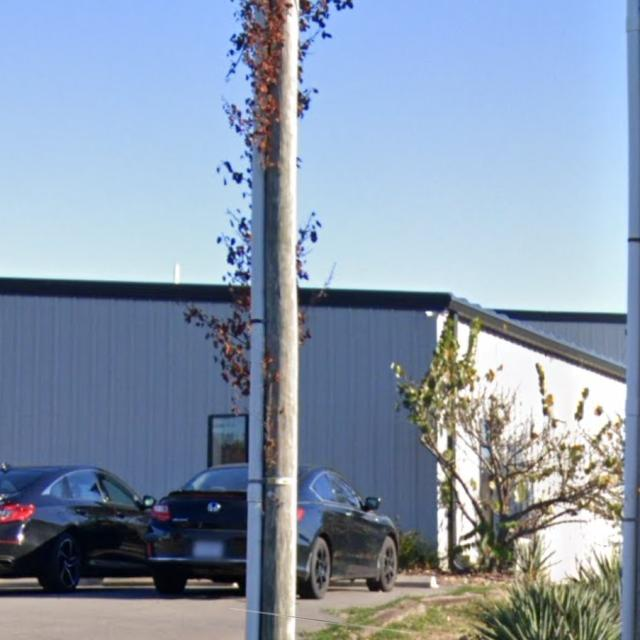House: (0, 277, 627, 582)
